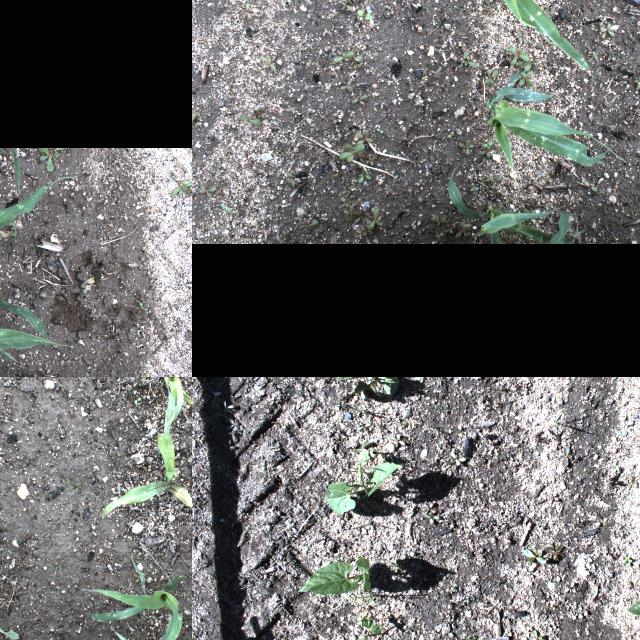crop: (486, 68, 624, 190), (0, 163, 75, 363), (422, 0, 594, 83), (103, 377, 192, 517), (448, 167, 586, 243), (90, 558, 186, 640), (324, 448, 402, 514), (298, 557, 372, 595), (141, 377, 192, 419), (332, 377, 400, 394), (351, 615, 384, 640), (14, 148, 20, 195), (0, 147, 11, 154)
weed: (61, 472, 102, 502), (345, 594, 375, 624), (338, 142, 370, 162), (39, 148, 67, 170), (522, 548, 548, 570), (507, 44, 531, 66), (171, 174, 192, 197), (452, 50, 476, 70), (544, 544, 566, 562), (332, 49, 364, 61), (599, 22, 623, 38), (343, 203, 362, 223), (368, 207, 384, 230), (240, 107, 260, 125), (386, 556, 406, 574), (554, 403, 570, 425), (453, 222, 472, 240), (350, 89, 368, 107), (446, 450, 466, 466), (258, 54, 276, 70), (478, 142, 496, 158), (483, 68, 499, 86), (517, 69, 533, 87), (356, 130, 372, 146), (47, 562, 63, 578), (199, 183, 217, 197), (534, 36, 552, 50), (358, 164, 370, 184), (389, 432, 406, 446), (240, 2, 253, 20), (358, 4, 372, 20), (224, 398, 238, 414), (298, 219, 320, 229), (424, 512, 442, 524), (344, 403, 366, 412), (340, 76, 354, 90), (488, 176, 502, 190), (524, 58, 538, 72), (502, 232, 518, 244), (582, 180, 598, 192), (192, 111, 202, 129), (560, 447, 570, 465), (442, 223, 458, 234), (516, 30, 528, 44), (286, 170, 296, 186), (430, 216, 446, 226), (516, 58, 532, 68), (341, 184, 354, 196), (361, 224, 374, 236), (484, 0, 496, 13), (337, 0, 352, 10), (340, 196, 352, 208), (424, 502, 436, 514), (530, 629, 543, 640), (134, 301, 148, 311), (432, 64, 442, 78), (522, 209, 532, 223), (540, 6, 554, 16), (356, 421, 370, 431), (223, 439, 237, 448), (366, 154, 376, 166), (456, 141, 466, 153), (460, 110, 470, 122), (599, 14, 609, 26), (222, 203, 232, 213), (281, 230, 291, 240), (359, 158, 369, 168), (340, 175, 350, 185), (425, 224, 435, 234), (624, 556, 634, 566), (633, 75, 640, 89), (259, 106, 267, 118), (502, 197, 514, 205), (229, 418, 239, 427), (466, 140, 472, 154), (232, 426, 238, 440), (388, 3, 398, 11), (383, 108, 391, 118), (436, 234, 446, 242), (476, 65, 486, 73), (378, 424, 388, 432), (465, 634, 478, 640), (483, 140, 492, 148), (443, 67, 452, 75), (349, 90, 357, 98), (386, 188, 394, 196), (447, 130, 455, 138), (134, 396, 142, 404), (610, 462, 618, 470), (630, 475, 638, 483), (353, 62, 363, 68), (363, 142, 373, 148), (460, 144, 474, 148), (469, 186, 478, 192), (499, 24, 508, 30), (216, 182, 220, 194), (377, 126, 383, 134), (369, 126, 375, 134), (498, 66, 504, 74), (362, 439, 368, 446), (422, 74, 428, 80), (7, 548, 13, 554), (256, 110, 260, 118), (434, 49, 450, 51), (522, 188, 526, 196), (386, 4, 390, 10), (35, 432, 39, 438), (452, 586, 456, 592), (138, 401, 142, 405), (57, 424, 59, 430)
